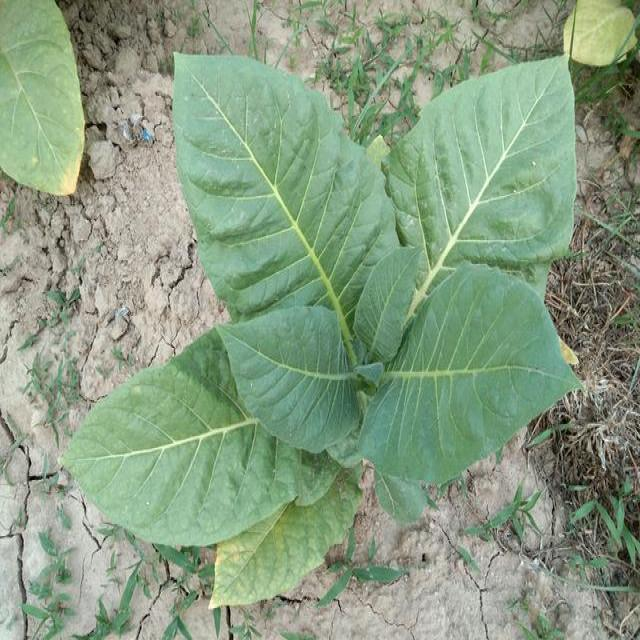crop: (78, 56, 576, 608)
